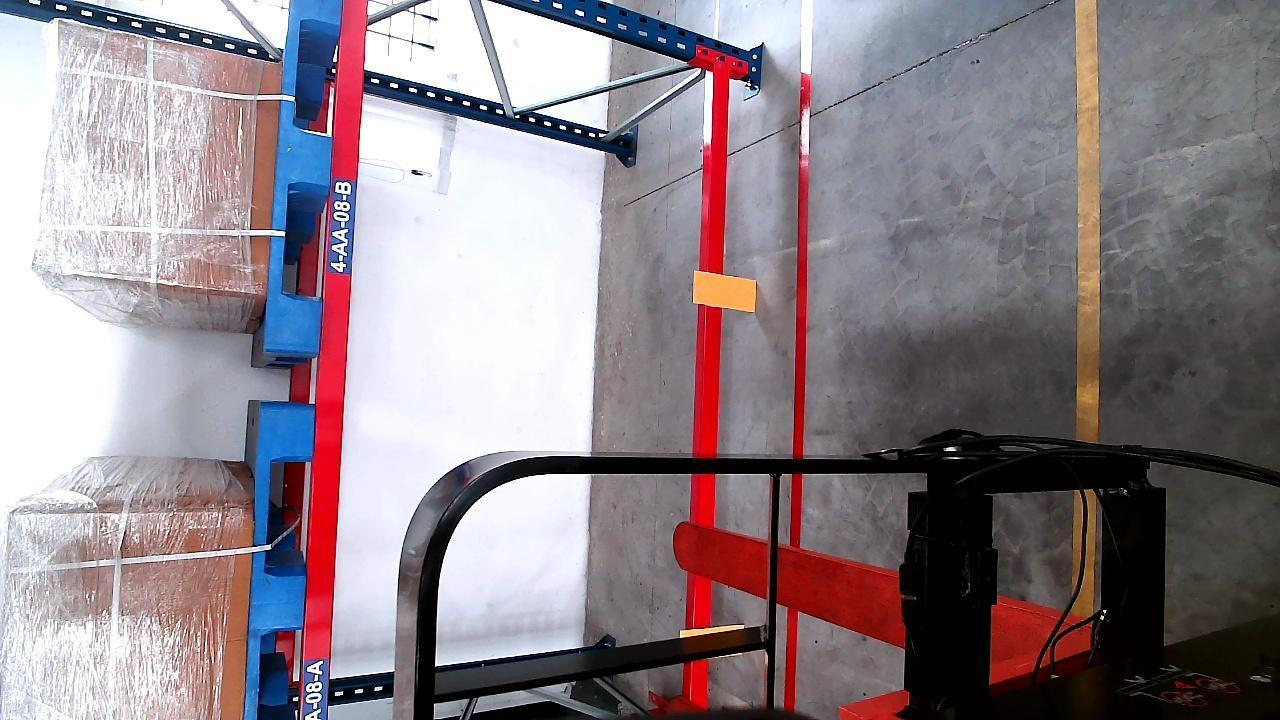h_rack: (300, 0, 368, 720), (685, 50, 729, 705)
orange_strip: (696, 272, 757, 309)
red_line: (782, 42, 816, 710)
small_pallet: (269, 0, 344, 354), (242, 401, 311, 715)
yellow_line: (1073, 0, 1103, 614)
